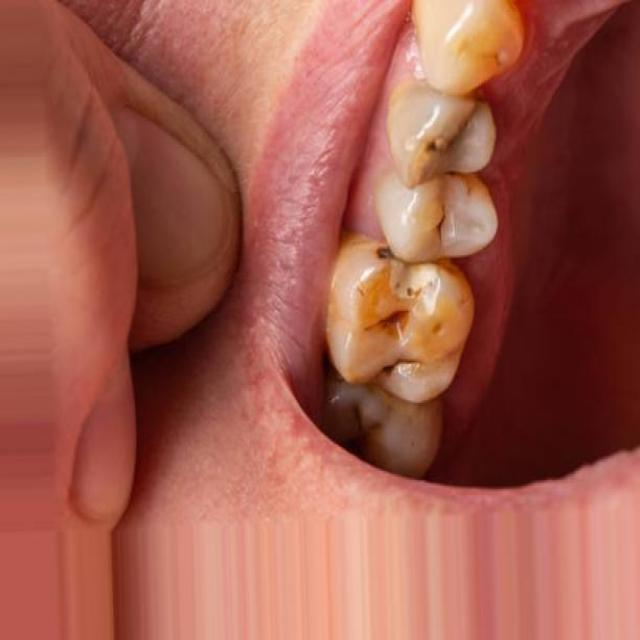caries: (414, 103, 480, 169), (374, 346, 430, 394), (362, 294, 411, 341), (426, 190, 456, 246), (368, 234, 404, 272), (425, 313, 450, 349)
